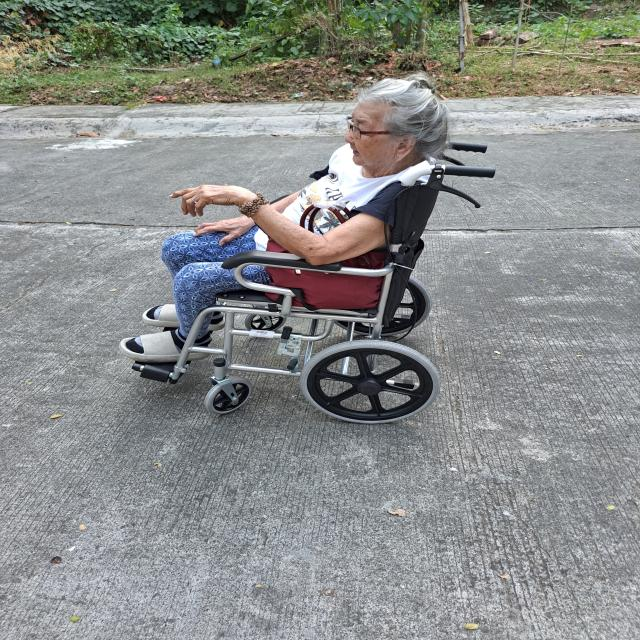wheelchairs: (132, 142, 497, 422)
